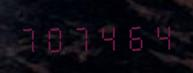four: (96, 20, 121, 52), (148, 19, 173, 51)
seven: (70, 20, 95, 53), (17, 21, 42, 53)
six: (122, 19, 147, 52)
zero: (43, 20, 68, 53)
